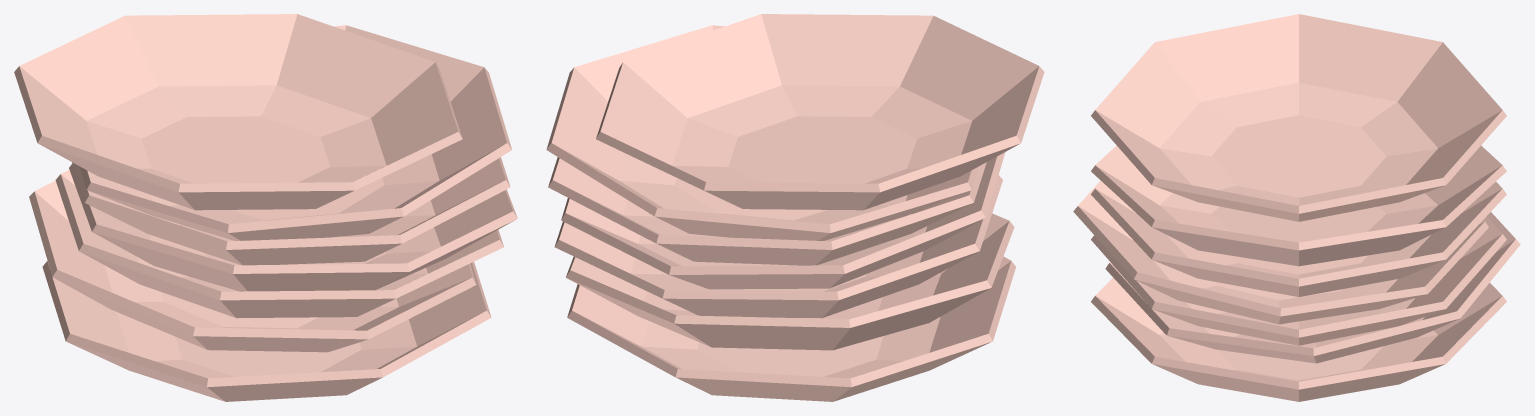
Rendered from Plate L.glb.
3 renders of one model, left to right at view 1: azimuth 30°, elevation 25°; view 2: azimuth 150°, elevation 25°; view 3: azimuth 270°, elevation 25°, orthographic. The views are drawn at different scales.
Parts seen in each view (by area): view 1: Plates; view 2: Plates; view 3: Plates.
Boxes of the visible parts, <box> form: Plates: <box>14,14,517,401</box>; Plates: <box>546,14,1044,401</box>; Plates: <box>1073,14,1520,401</box>.
Bounding box in the file's own units: 0.5257 × 0.2962 × 0.5039.
